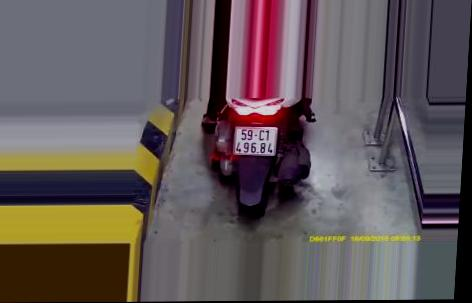License_Plate: (229, 125, 281, 159)
